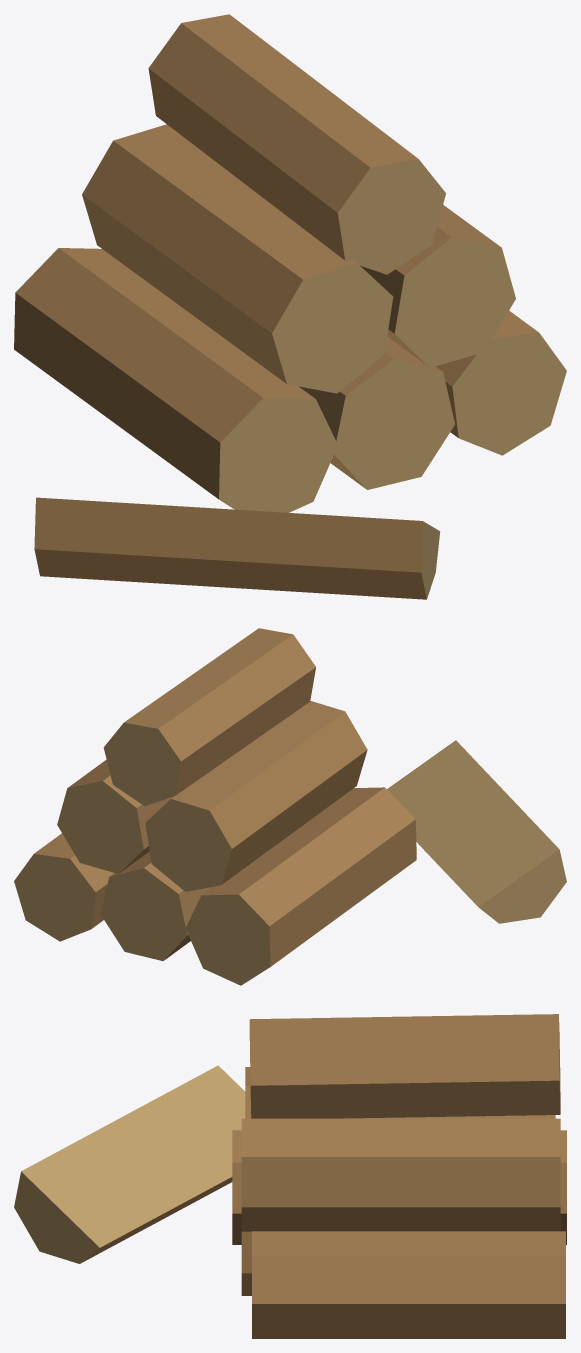
Rendered from log_02.fbx.
3 views of the same model, one above another, from view 1: azimuth 30°, elevation 25°; view 2: azimuth 150°, elevation 25°; view 3: azimuth 270°, elevation 25° (orthographic). The views are drawn at different scales.
Visible parts, largest first — view 1: log_02; view 2: log_02; view 3: log_02.
Boxes of the visible parts, x1,y1,x2,y2 form: log_02: (14, 14, 566, 599); log_02: (14, 628, 566, 985); log_02: (14, 1014, 566, 1338).
Bounding box in the file's own units: 171 × 95.94 × 180.
